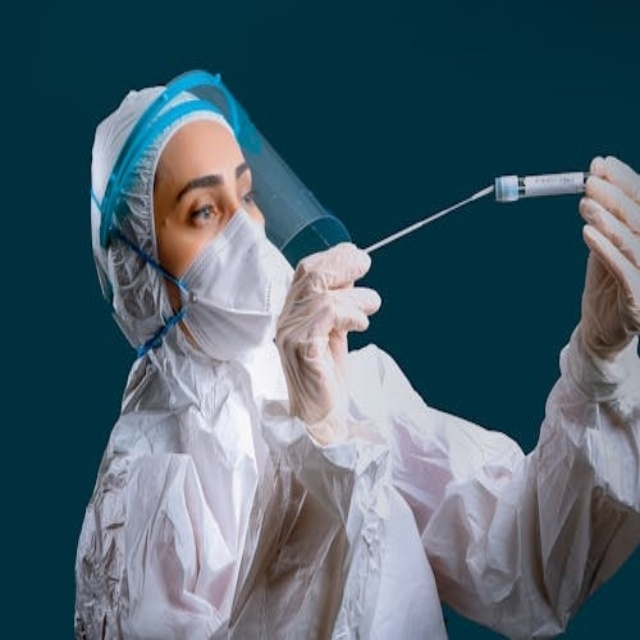Guantes: (273, 240, 381, 441), (574, 153, 639, 368)
Mascara: (160, 205, 279, 363)
Sin_gafas: (168, 161, 262, 235)
